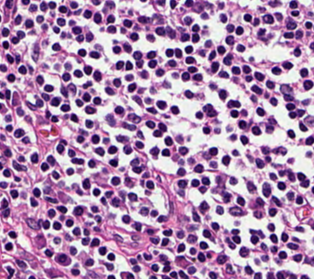nucleus: (13, 161, 26, 170), (166, 26, 175, 38), (263, 182, 270, 196), (128, 114, 140, 122), (251, 85, 261, 94), (272, 196, 281, 206), (106, 114, 114, 125), (123, 123, 135, 130), (14, 129, 24, 137), (12, 92, 18, 105), (123, 43, 131, 52), (133, 51, 141, 60), (223, 55, 231, 64), (184, 90, 193, 98), (51, 97, 59, 106), (274, 148, 286, 154), (71, 158, 83, 164), (194, 164, 203, 172), (247, 182, 255, 191), (211, 62, 218, 72), (94, 70, 101, 80), (219, 89, 226, 99), (85, 106, 95, 113), (181, 33, 189, 41), (217, 46, 225, 54), (255, 72, 263, 80), (128, 83, 136, 91), (133, 96, 141, 104), (157, 101, 165, 109), (115, 106, 123, 114), (252, 126, 260, 134), (95, 147, 103, 155), (150, 147, 158, 155), (209, 147, 217, 155), (178, 180, 186, 188), (10, 190, 18, 198), (128, 193, 136, 201), (90, 51, 99, 58), (203, 104, 212, 111), (171, 105, 178, 114), (124, 145, 131, 154), (178, 147, 187, 154), (222, 155, 229, 164), (47, 156, 54, 165), (256, 158, 263, 167), (223, 193, 230, 202), (116, 136, 128, 141), (31, 153, 37, 163), (83, 179, 89, 189), (45, 197, 57, 202), (146, 34, 154, 41), (226, 36, 233, 44), (52, 43, 60, 50), (147, 51, 155, 58), (148, 60, 156, 67), (116, 61, 123, 69), (243, 65, 250, 73), (84, 66, 91, 74), (272, 67, 280, 74), (74, 70, 82, 77), (182, 72, 189, 80), (193, 73, 201, 80), (36, 76, 43, 84), (83, 81, 91, 88), (266, 81, 274, 88), (68, 84, 75, 92), (105, 87, 113, 94), (61, 104, 69, 111), (256, 108, 264, 115), (208, 109, 216, 116), (239, 120, 246, 128), (146, 121, 154, 128), (159, 123, 166, 131), (266, 125, 273, 133), (92, 135, 99, 143), (240, 135, 247, 143), (165, 137, 172, 145), (135, 141, 143, 148), (56, 144, 63, 152), (108, 146, 116, 153), (109, 159, 117, 166), (177, 168, 185, 175), (52, 171, 59, 179), (111, 177, 119, 184), (229, 177, 237, 184), (237, 197, 244, 205), (192, 33, 198, 42), (7, 54, 13, 63), (185, 57, 194, 63), (219, 71, 228, 77), (44, 85, 53, 91), (61, 87, 67, 96), (17, 31, 24, 38), (131, 33, 138, 40), (113, 46, 120, 53), (185, 46, 192, 53), (78, 49, 85, 56), (166, 49, 173, 56), (64, 63, 71, 70), (19, 66, 26, 73), (232, 67, 239, 74), (156, 69, 163, 76), (7, 74, 14, 81), (113, 79, 120, 86), (42, 93, 49, 100), (93, 97, 100, 104), (270, 98, 277, 105), (27, 102, 34, 109), (16, 108, 23, 115), (231, 110, 238, 117), (269, 117, 276, 124), (85, 120, 92, 127), (262, 147, 269, 154), (4, 149, 11, 156), (131, 158, 138, 165), (41, 163, 48, 170), (3, 169, 10, 176), (202, 177, 209, 184), (125, 178, 132, 185), (191, 179, 198, 186), (146, 181, 153, 188), (278, 182, 285, 189), (86, 33, 92, 41), (175, 49, 181, 57), (209, 51, 215, 59), (126, 61, 132, 69), (83, 93, 89, 101), (36, 99, 42, 107), (153, 130, 161, 136), (133, 166, 141, 172), (33, 188, 39, 196), (5, 90, 10, 99), (147, 108, 156, 113), (76, 35, 83, 41), (11, 37, 18, 43), (205, 40, 211, 47), (2, 41, 8, 48), (237, 45, 244, 51), (136, 60, 142, 67), (168, 60, 175, 66), (0, 64, 6, 71), (141, 71, 147, 78), (63, 73, 69, 80), (163, 81, 170, 87), (76, 99, 82, 106), (227, 100, 233, 107), (71, 114, 77, 121), (137, 131, 143, 138), (68, 149, 74, 156), (162, 149, 169, 155), (88, 160, 94, 167), (269, 173, 276, 179), (199, 186, 206, 192), (105, 191, 112, 197), (188, 67, 196, 72), (125, 75, 133, 80), (145, 97, 151, 103), (234, 101, 240, 107), (196, 112, 202, 118), (5, 115, 11, 121), (6, 125, 12, 131), (203, 127, 209, 133), (77, 136, 83, 142), (176, 136, 182, 142), (210, 161, 216, 167), (67, 168, 73, 174), (93, 189, 99, 195), (209, 84, 216, 89), (120, 191, 124, 199), (246, 76, 252, 81), (251, 95, 256, 101), (241, 110, 247, 115), (51, 116, 57, 121), (230, 135, 236, 140), (23, 137, 29, 142), (232, 150, 238, 155), (18, 156, 24, 161), (1, 182, 6, 188), (215, 128, 220, 133), (265, 156, 270, 161), (143, 172, 148, 177), (178, 191, 183, 196), (16, 56, 20, 62), (80, 130, 86, 134), (14, 177, 20, 181), (216, 177, 220, 183), (61, 32, 65, 37), (199, 51, 204, 55), (172, 73, 177, 77), (103, 138, 108, 142), (189, 158, 193, 163), (179, 159, 183, 164), (279, 171, 284, 175), (29, 66, 32, 72), (46, 111, 49, 117), (77, 190, 81, 194), (138, 89, 143, 92), (1, 135, 4, 140), (145, 191, 150, 194), (150, 88, 153, 92)
